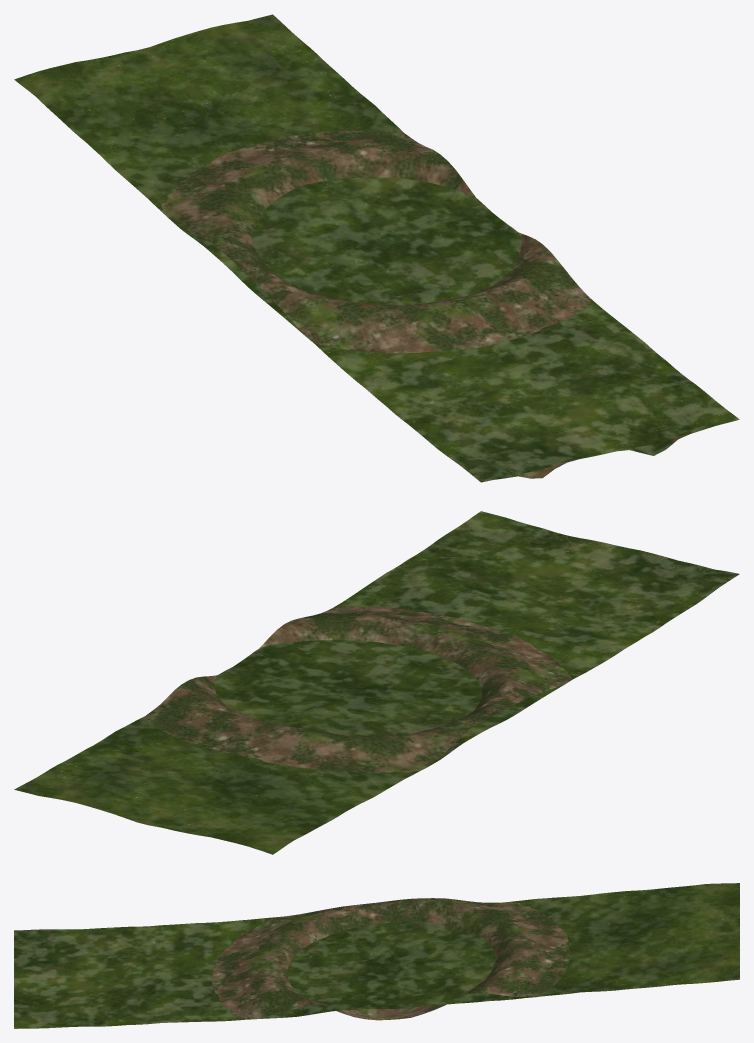
The model's file is starfort_glacis_hero.glb.
The picture shows the model from 3 angles, top to bottom: view 1: azimuth 30°, elevation 25°; view 2: azimuth 150°, elevation 25°; view 3: azimuth 270°, elevation 25°; orthographic projection. The views are drawn at different scales.
Visible parts, largest first — view 1: intact, breached, cracked; view 2: intact, breached; view 3: intact, breached.
Part boxes in pixels (left/top/right/bottom): intact: left=14, top=14, right=739, bottom=482; breached: left=26, top=14, right=710, bottom=468; cracked: left=74, top=36, right=695, bottom=478; intact: left=14, top=511, right=739, bottom=854; breached: left=40, top=520, right=708, bottom=842; intact: left=14, top=883, right=739, bottom=1028; breached: left=25, top=883, right=739, bottom=1022.
Size of what is drawn, in the model's own units: 4 by 1.44 by 12.5.
Materials: 1 (1 with a texture image).
